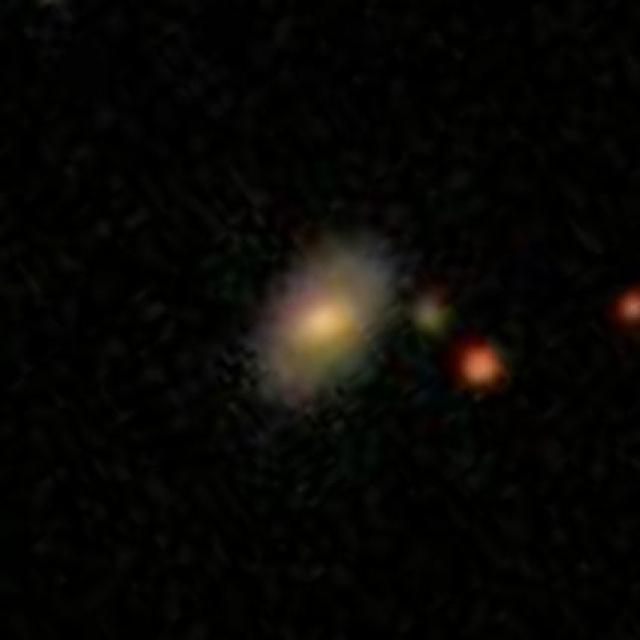galaxy: (235, 224, 410, 431), (452, 338, 511, 389), (410, 287, 460, 340), (609, 285, 640, 336)
